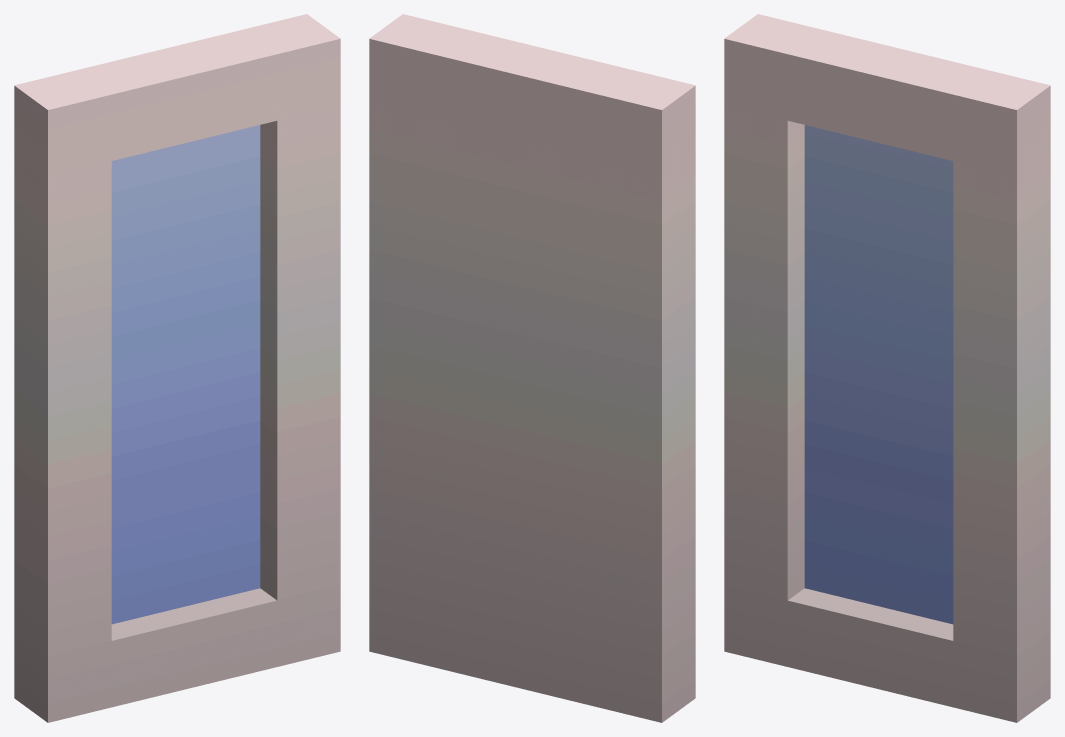
Rendered from cc0_door_front.glb.
3 views of the same model, side by side, from view 1: azimuth 30°, elevation 25°; view 2: azimuth 150°, elevation 25°; view 3: azimuth 330°, elevation 25° (orthographic).
Visible parts, largest first — view 1: door-white-glass; view 2: door-white-glass; view 3: door-white-glass.
Part boxes in pixels (x1,y1,x2,y2): door-white-glass: (14, 14, 340, 722); door-white-glass: (369, 14, 695, 722); door-white-glass: (724, 14, 1050, 722).
Bounding box in the file's own units: 0.25 × 0.5 × 0.05.
1 material, 1 textured.
